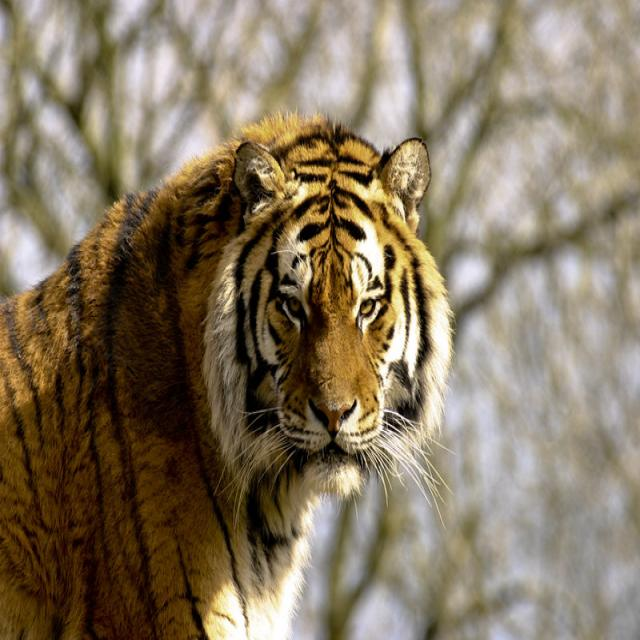Tiger: (0, 111, 453, 638)
